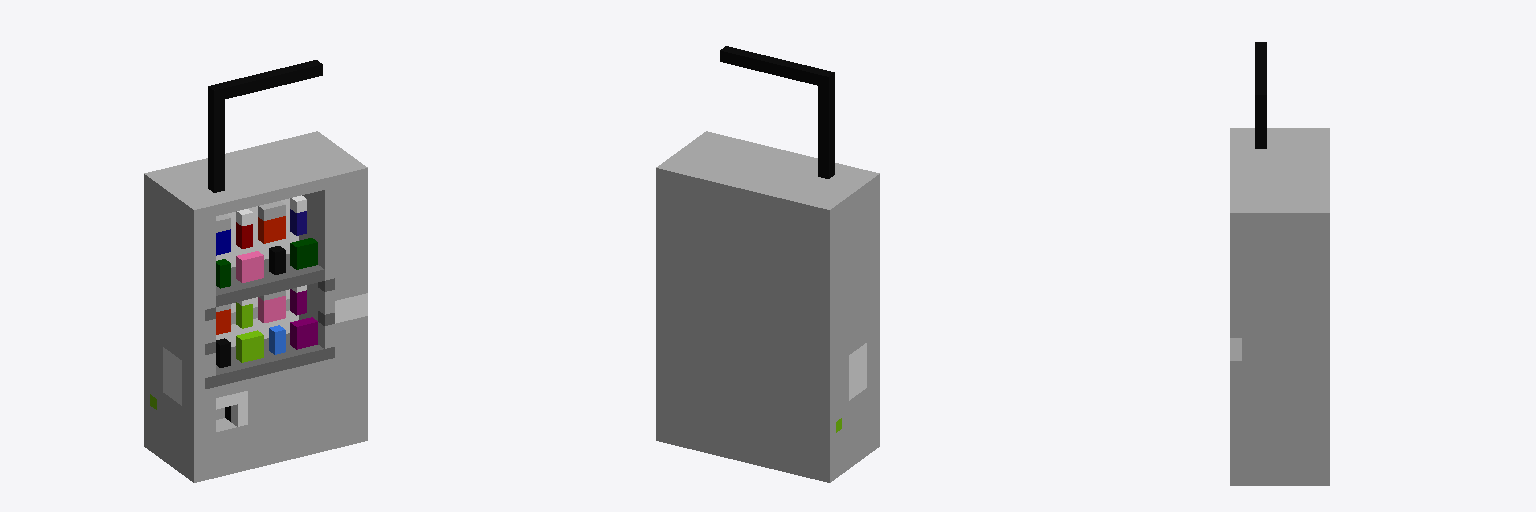
3 views of the same model, side by side, from view 1: azimuth 30°, elevation 25°; view 2: azimuth 150°, elevation 25°; view 3: azimuth 270°, elevation 25° (orthographic).
Parts seen in each view (by area): view 1: SodaMachine1; view 2: SodaMachine1; view 3: SodaMachine1.
Part boxes in pixels (x1,y1,x2,y2): SodaMachine1: (144,60,367,482); SodaMachine1: (656,46,879,482); SodaMachine1: (1230,42,1329,485).
Size of the model in its own units: 1.01 by 2.08 by 0.504.
1 materials, 1 textured.